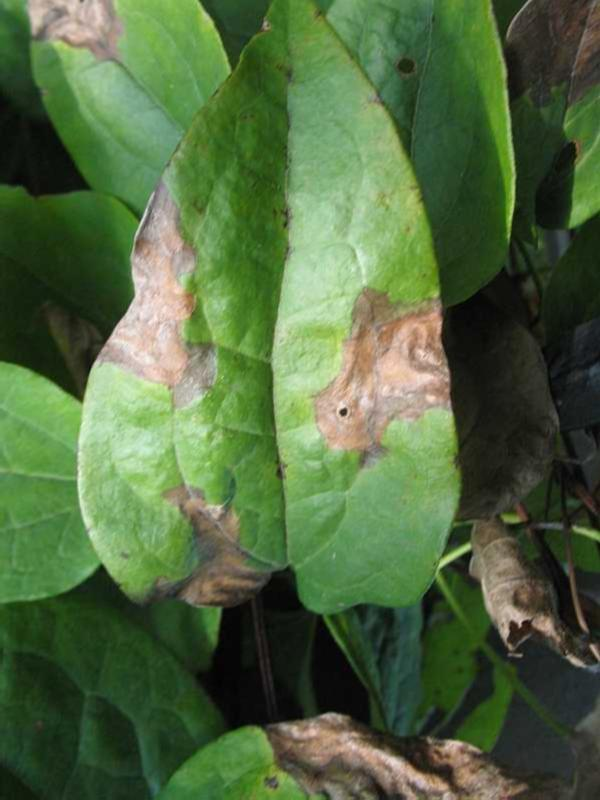Tomato leaf bacterial spot: (70, 7, 453, 628)
